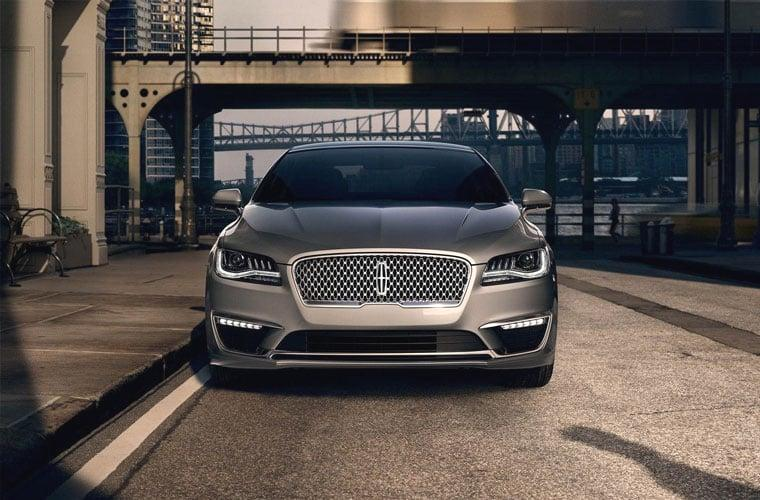lincoln: (367, 253, 397, 304)
